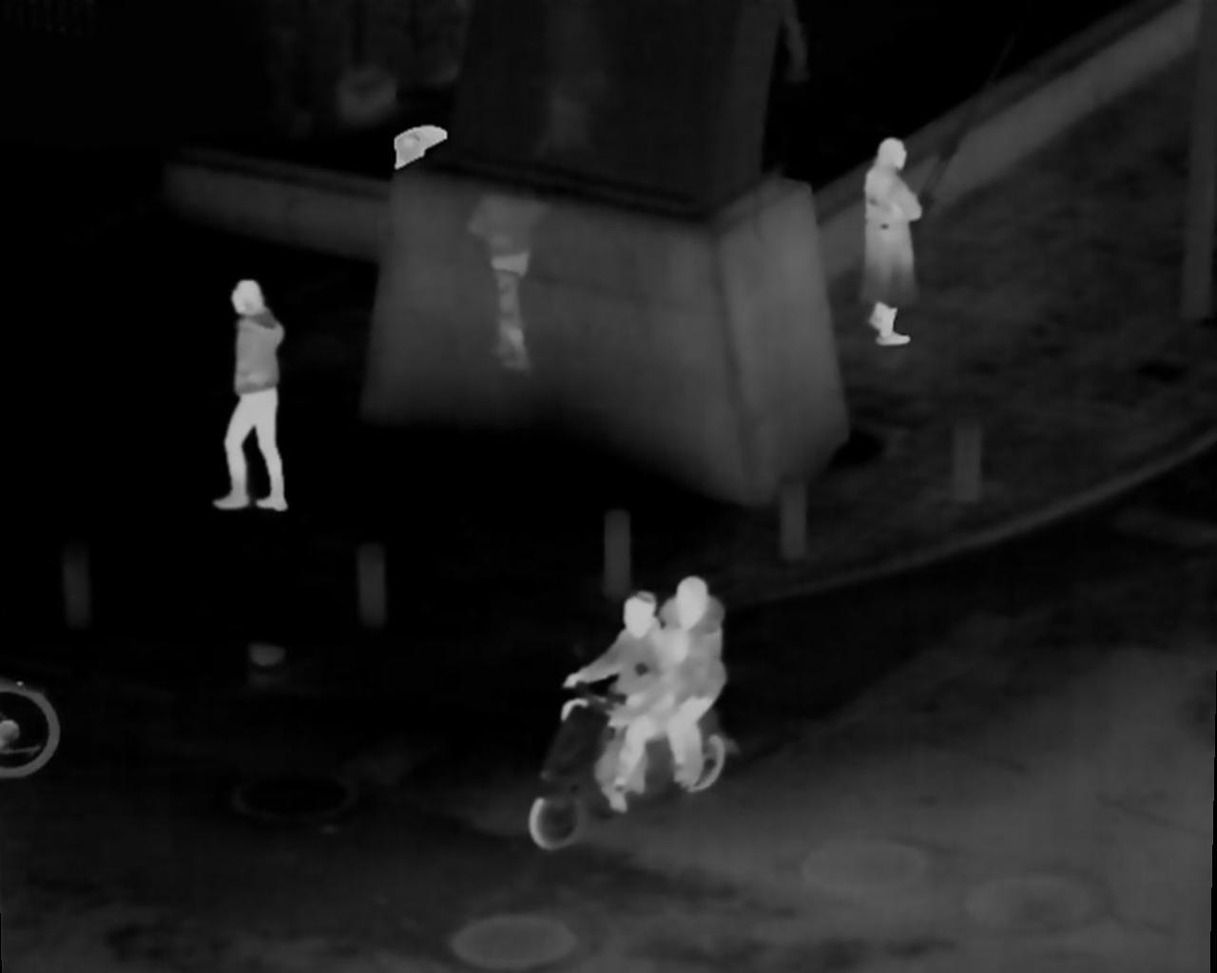person: (656, 569, 745, 800), (589, 593, 682, 783), (229, 280, 296, 508), (864, 141, 929, 352)
